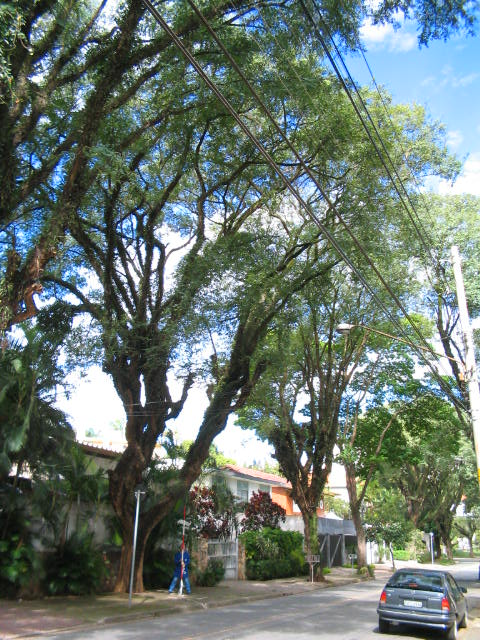crown: (66, 33, 458, 360)
stem: (98, 511, 168, 591)
stick: (174, 509, 191, 594)
tree: (62, 29, 465, 592)
